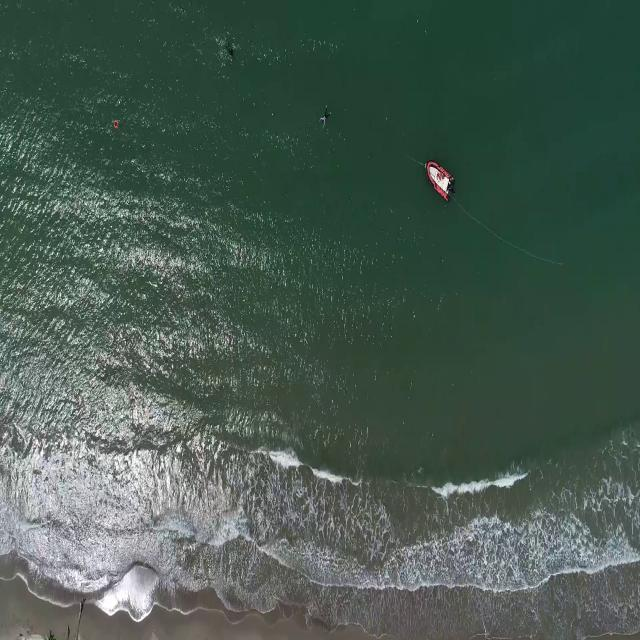boat: (426, 157, 453, 202)
life_buoy: (112, 117, 120, 129)
person: (319, 106, 332, 130), (222, 40, 237, 60)
wood: (67, 594, 86, 640)
